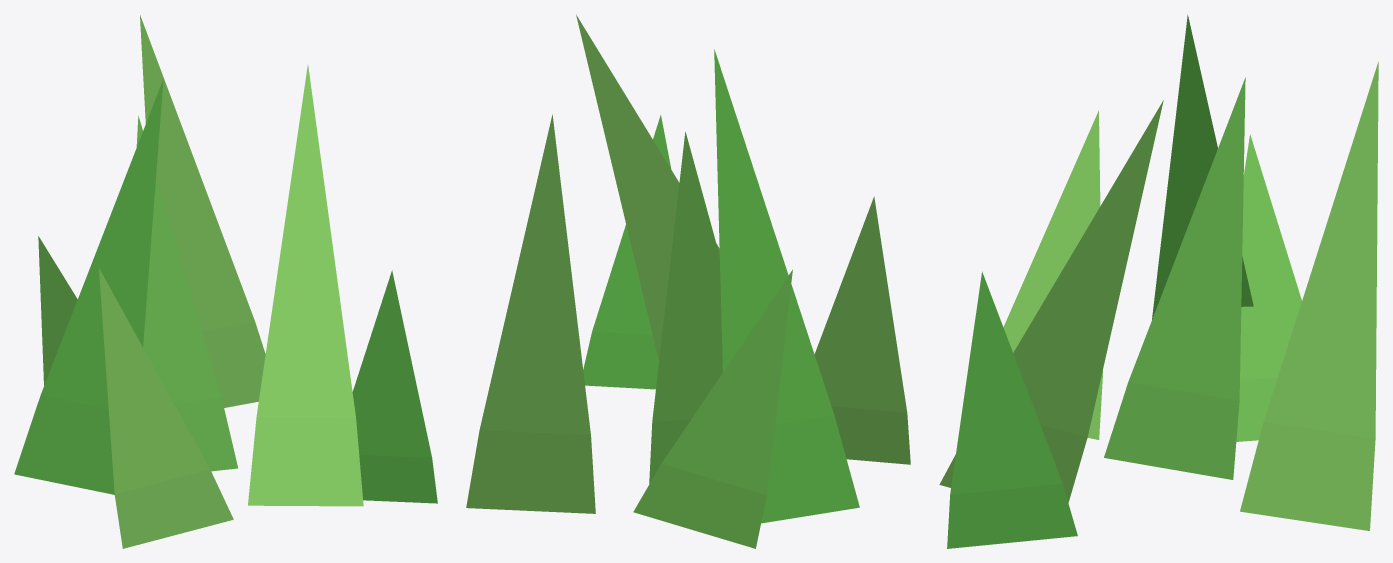
The model's file is GrassTuft_2.glb.
3 views of the same model, side by side, from view 1: azimuth 30°, elevation 25°; view 2: azimuth 150°, elevation 25°; view 3: azimuth 270°, elevation 25° (orthographic). The views are drawn at different scales.
Visible parts, largest first — view 1: GrassTuft_2; view 2: GrassTuft_2; view 3: GrassTuft_2.
Part boxes in pixels (bbox=[...]): GrassTuft_2: bbox=[14, 15, 437, 548]; GrassTuft_2: bbox=[466, 14, 910, 548]; GrassTuft_2: bbox=[939, 14, 1378, 548].
Bounding box in the file's own units: 1.6 × 2 × 1.73.
1 material, 1 textured.
